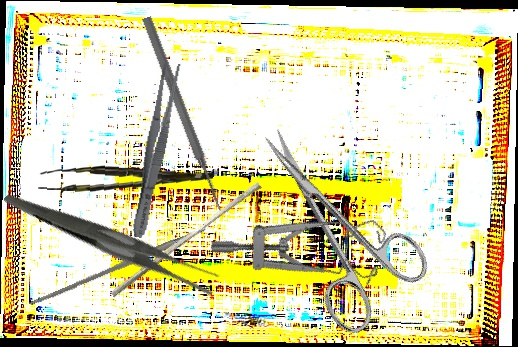Dressing Forceps: (2, 135, 225, 345), (126, 60, 184, 240)
Iris Scissors: (226, 99, 442, 341)
Pusher: (110, 176, 262, 304), (139, 15, 227, 213)
Scalpel Handle: (28, 225, 208, 309)
Speculum: (207, 162, 397, 319)
Tissue Forceps: (38, 160, 214, 202)
